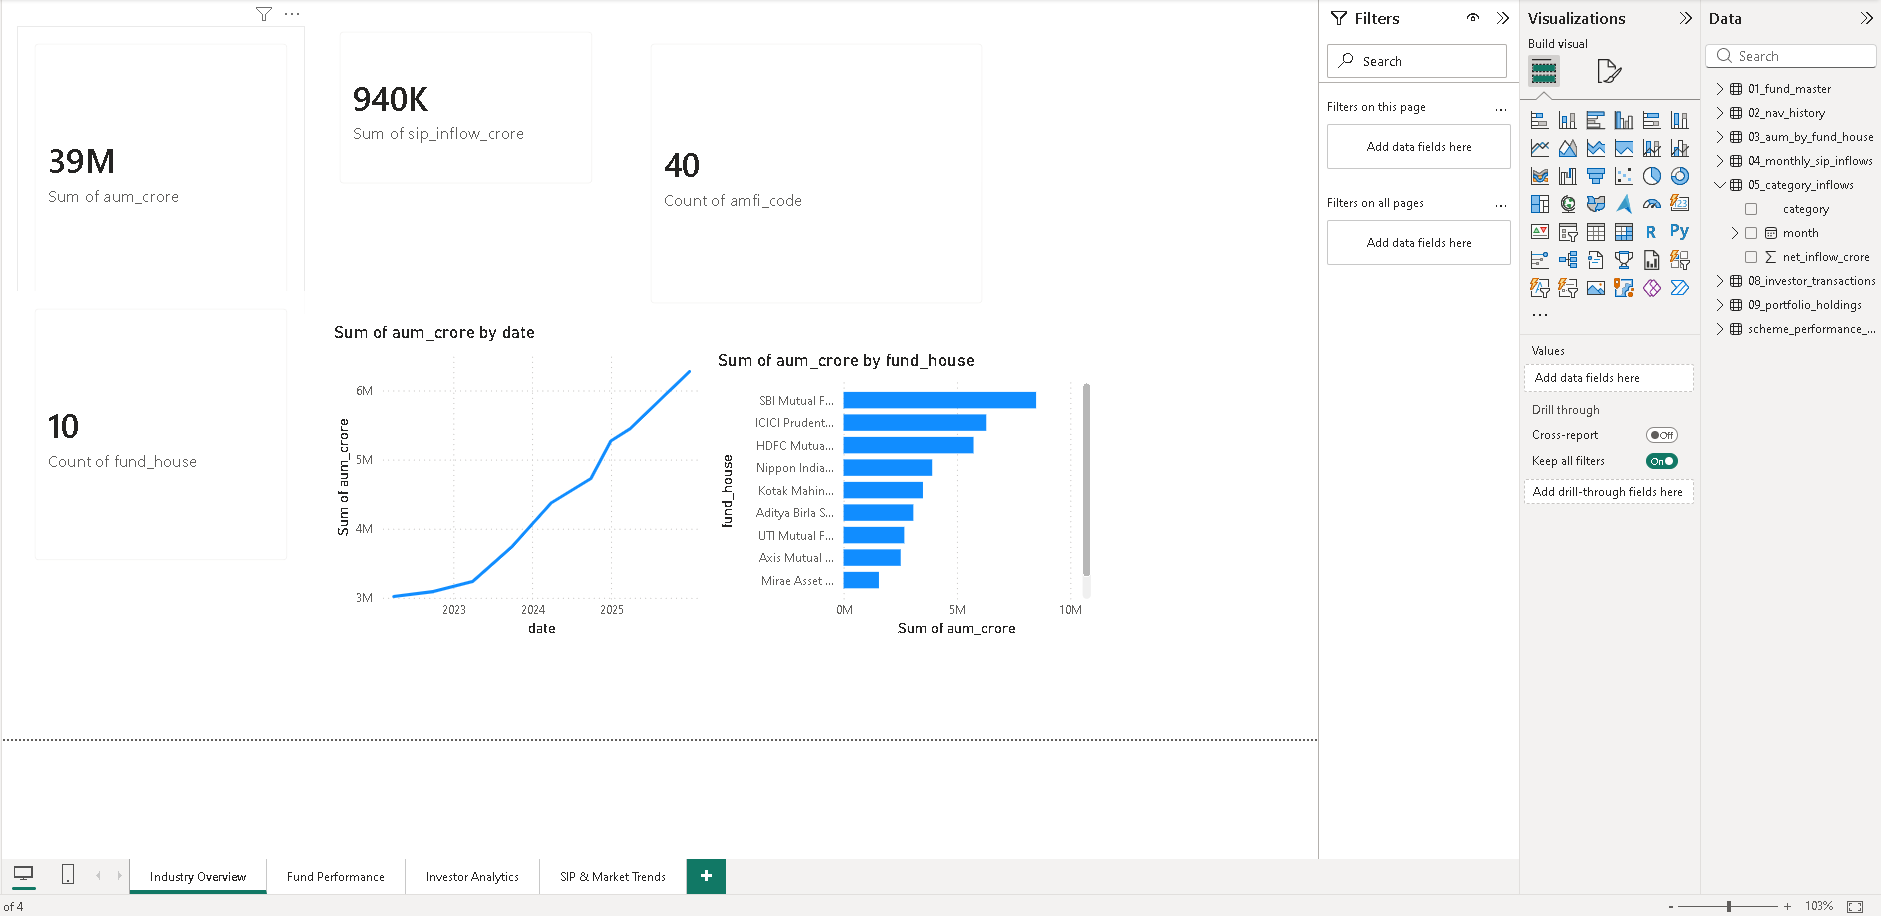

What the dashboard file says about the page in this screenshot:
{"tool":"powerbi","page":{"name":"dashboard","canvas":[1280,720],"ordinal":0},"visuals":[{"type":"cardVisual","fields":{"Data":["Sum(03_aum_by_fund_house.aum_crore)"]},"box":[14.6,26.3,280.1,280.1],"z":0},{"type":"cardVisual","fields":{"Data":["Sum(04_monthly_sip_inflows.sip_inflow_crore)"]},"box":[311.2,14.6,280.1,182.9],"z":1000},{"type":"cardVisual","fields":{"Data":["CountNonNull(01_fund_master.amfi_code)"]},"box":[613.7,26.3,357.9,287.9],"z":2000},{"type":"cardVisual","fields":{"Data":["Count(01_fund_master.fund_house)"]},"box":[14.6,284,280.1,279.1],"z":3000},{"type":"lineChart","fields":{"Y":["Sum(03_aum_by_fund_house.aum_crore)"],"Category":["03_aum_by_fund_house.date"]},"box":[318.1,314.2,367.7,310.3],"z":4000},{"type":"clusteredBarChart","fields":{"Category":["03_aum_by_fund_house.fund_house"],"Y":["Sum(03_aum_by_fund_house.aum_crore)"]},"box":[691.6,341.4,372.5,283],"z":5000}]}

Visuals, with their boxes on the page's 1280x720 design canvas (x1, y1, x2, y2). These are canvas units, not pixel positions in the 1881x916 screenshot, which may show the page scaled, cropped or inside an application window:
cardVisual - Sum(03_aum_by_fund_house.aum_crore): left=15, top=26, right=295, bottom=306
cardVisual - Sum(04_monthly_sip_inflows.sip_inflow_crore): left=311, top=15, right=591, bottom=198
cardVisual - CountNonNull(01_fund_master.amfi_code): left=614, top=26, right=972, bottom=314
cardVisual - Count(01_fund_master.fund_house): left=15, top=284, right=295, bottom=563
lineChart - Sum(03_aum_by_fund_house.aum_crore) x 03_aum_by_fund_house.date: left=318, top=314, right=686, bottom=624
clusteredBarChart - 03_aum_by_fund_house.fund_house x Sum(03_aum_by_fund_house.aum_crore): left=692, top=341, right=1064, bottom=624
